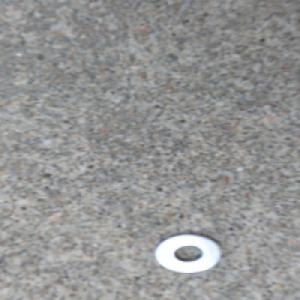Washer: (151, 233, 225, 274)
